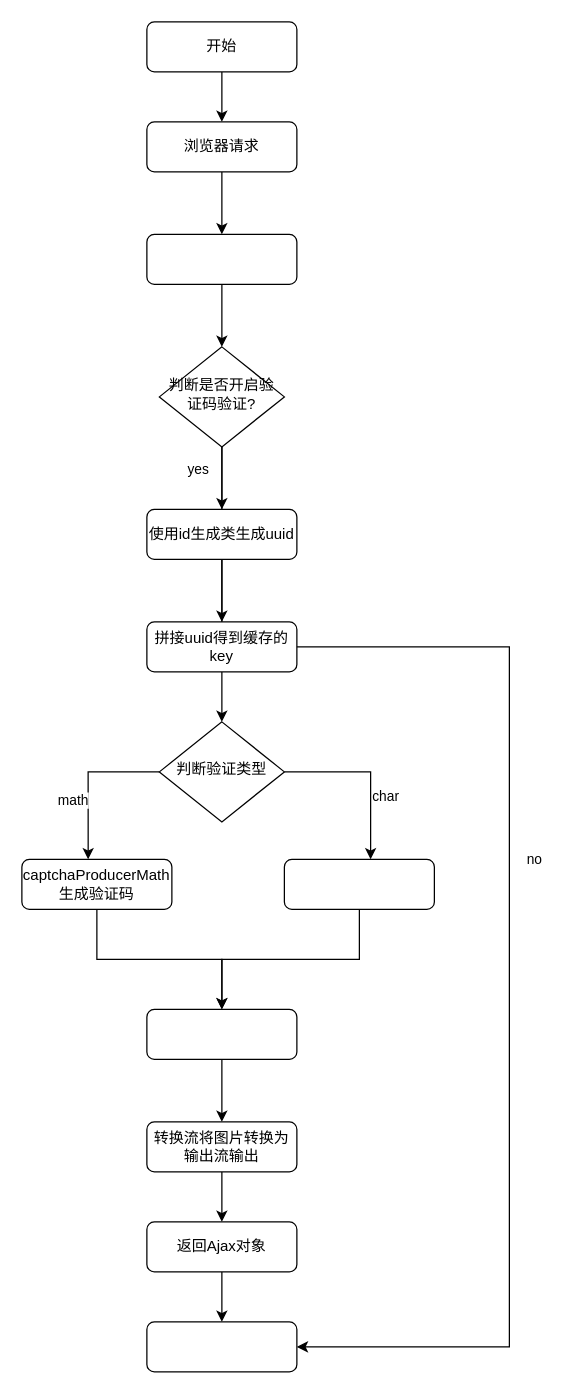
Some shapes in this 564 by 1394 pixel diagram are drawn without their labels. The shapes that lost their labels are listed below. From the top down, each one's centre as x and y in pixels, then its label:
[221,258]: 初始化响应返回值
[358,883]: captchaProducer生成验证码
[221,1033]: 存入缓存
[221,1346]: 结束
